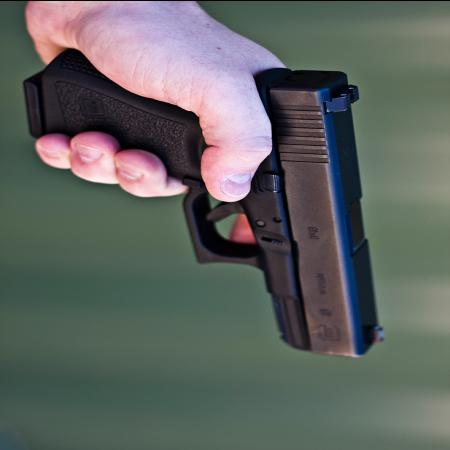Pistol: (26, 38, 387, 367)
